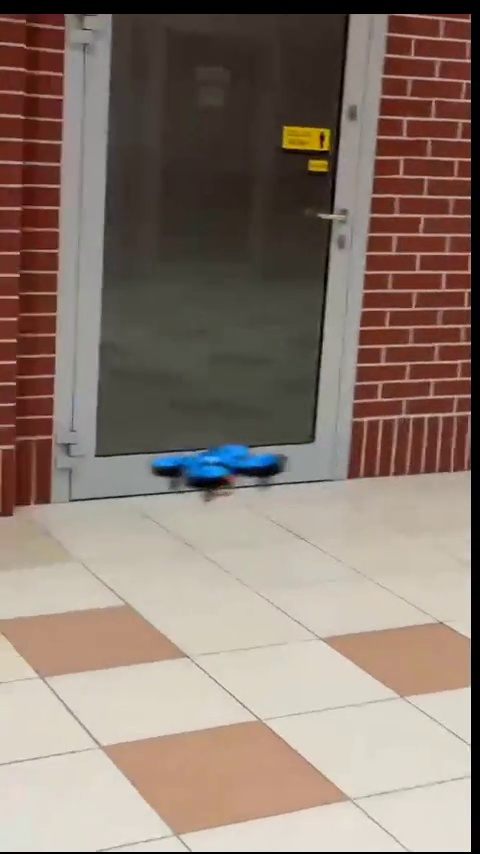drone: (150, 441, 289, 498)
